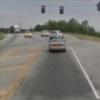cars: (48, 38, 67, 54), (48, 30, 65, 39), (42, 30, 50, 36)
traffic lights: (40, 4, 46, 15), (60, 5, 64, 16)
